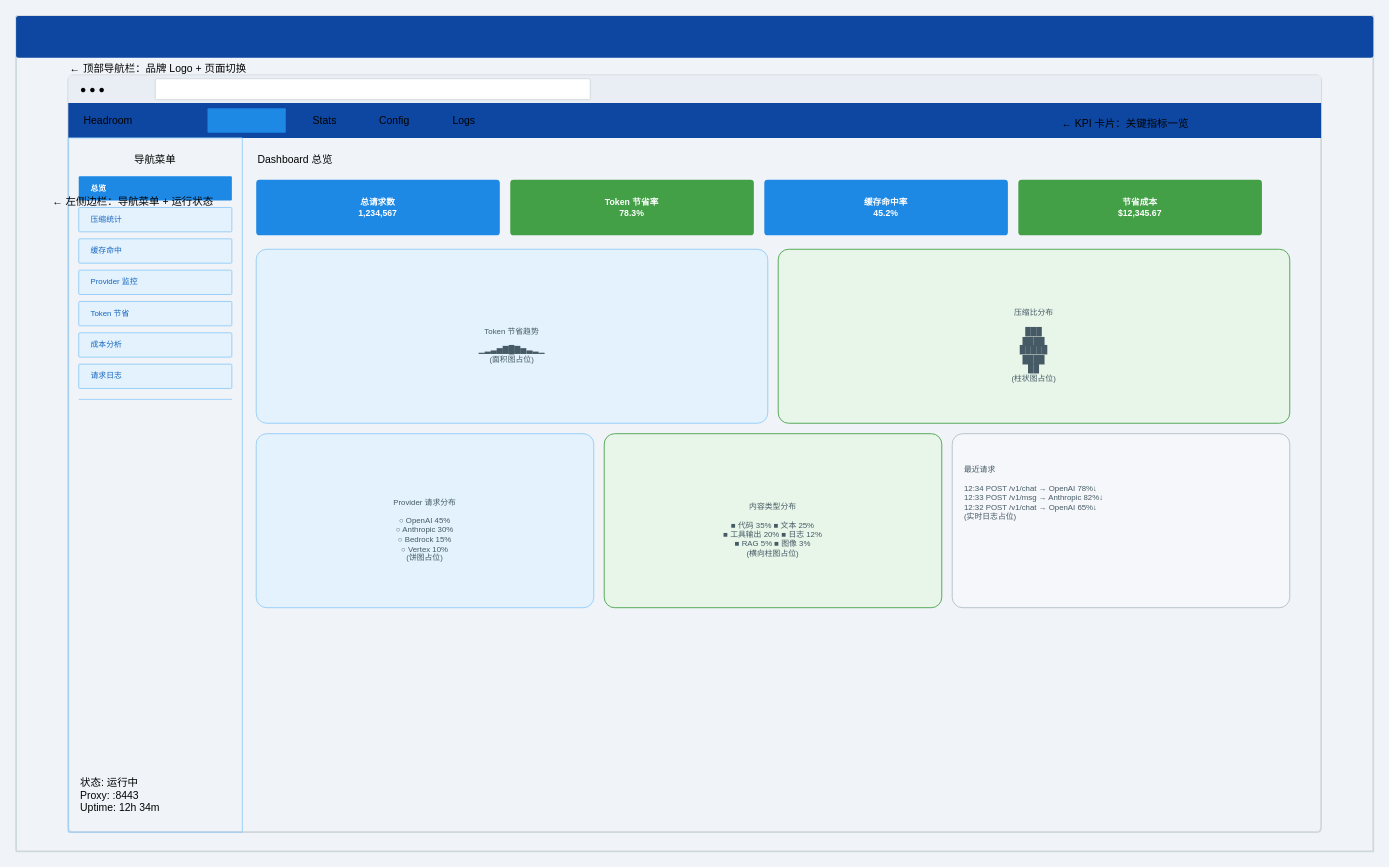
Some shapes in this 1389 by 867 pixel diagram are drawn without their labels. Here are the shapes that lost their labels. From the top down, the centre of each, then its label:
the point at 694,36: Headroom Dashboard 线框图
the point at 372,89: https://headroom.example.com/dashboard
the point at 246,120: Dashboard
